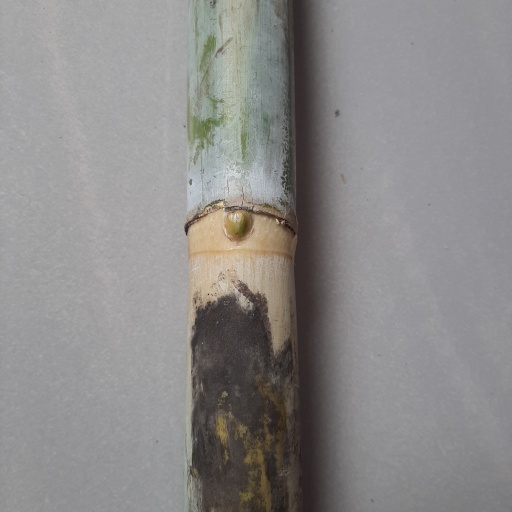Bud: (222, 207, 255, 242)
